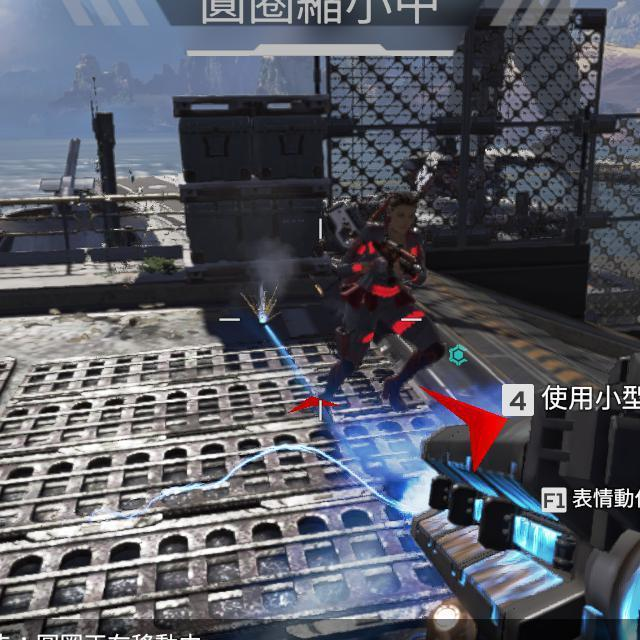avatar: (325, 190, 449, 410)
